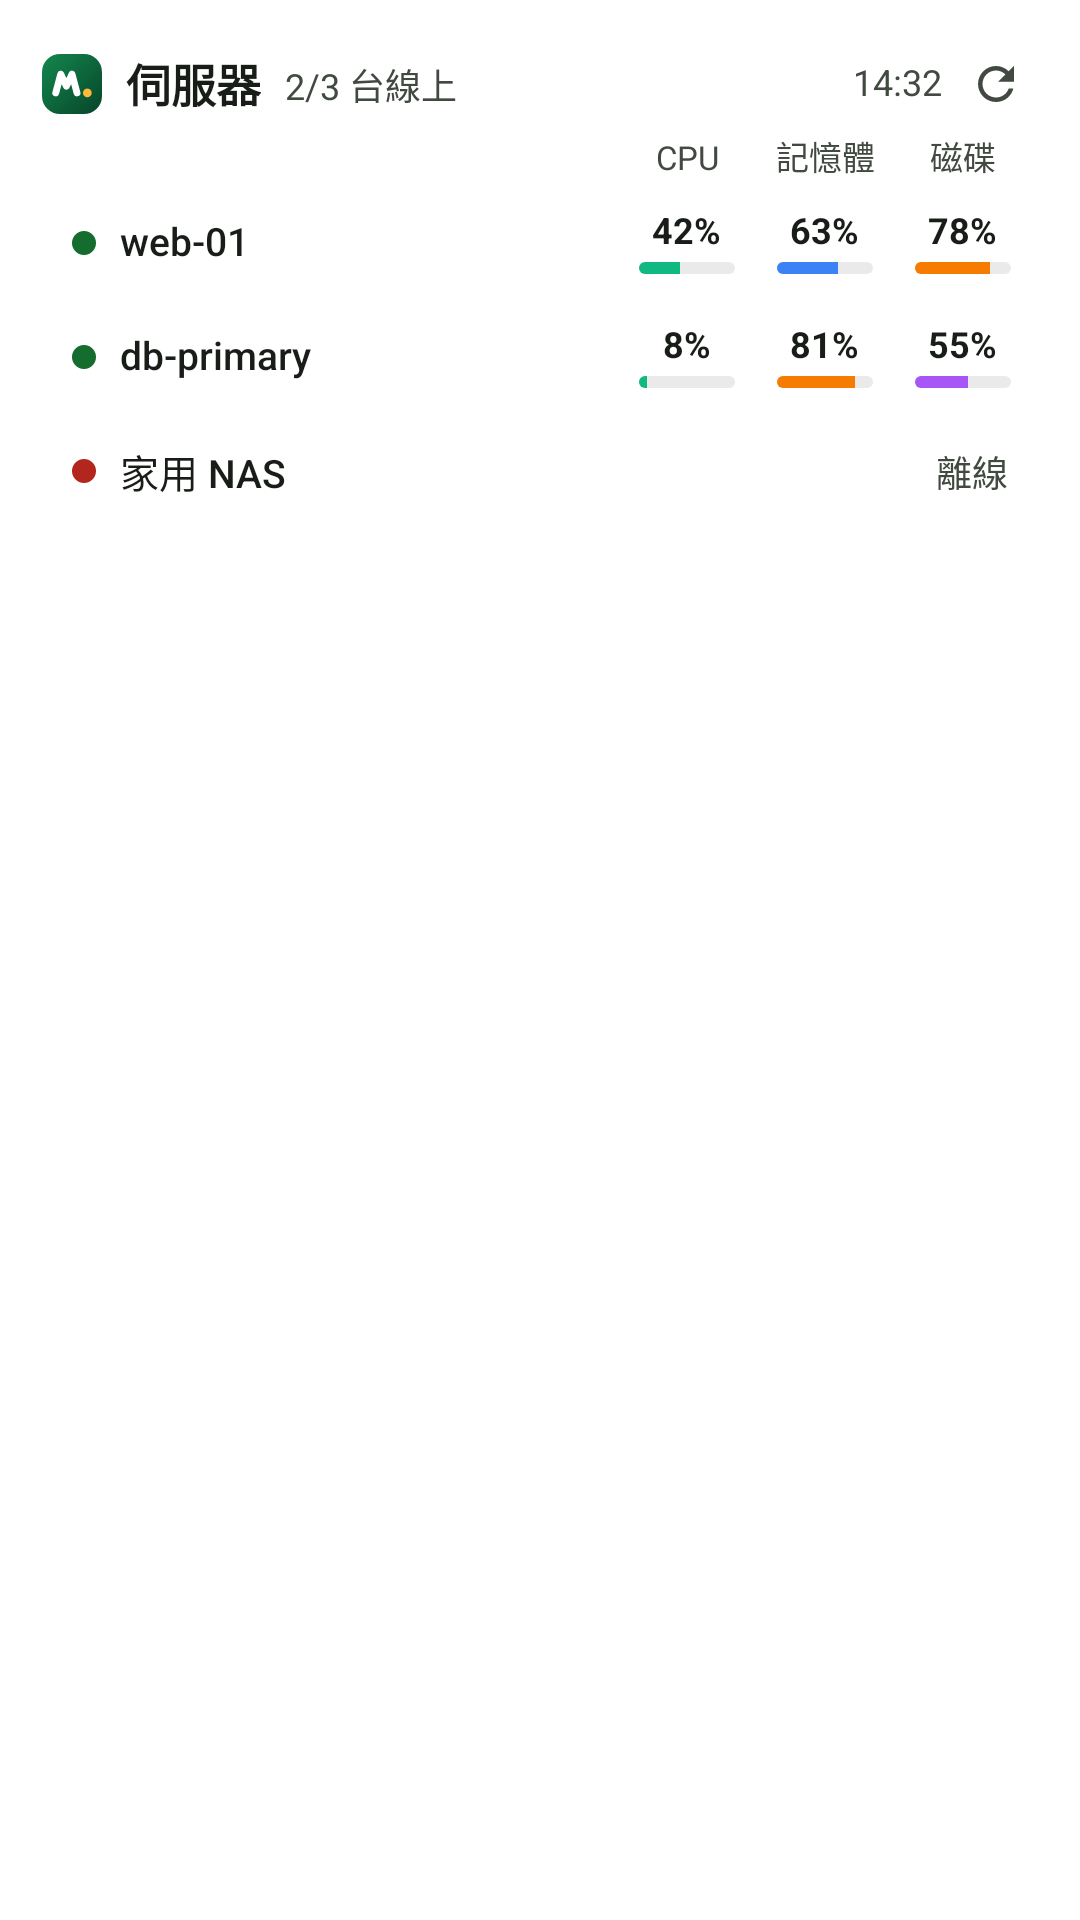

Point at icon controls on the screen. Image size 1080px x 1920px, points as (x,y).
widget refresh: (996,84)
